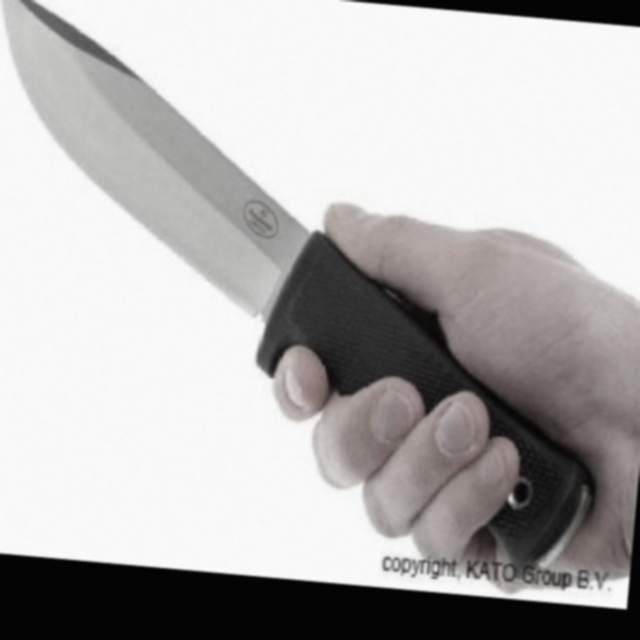Sharp-Object: (0, 0, 634, 585)
